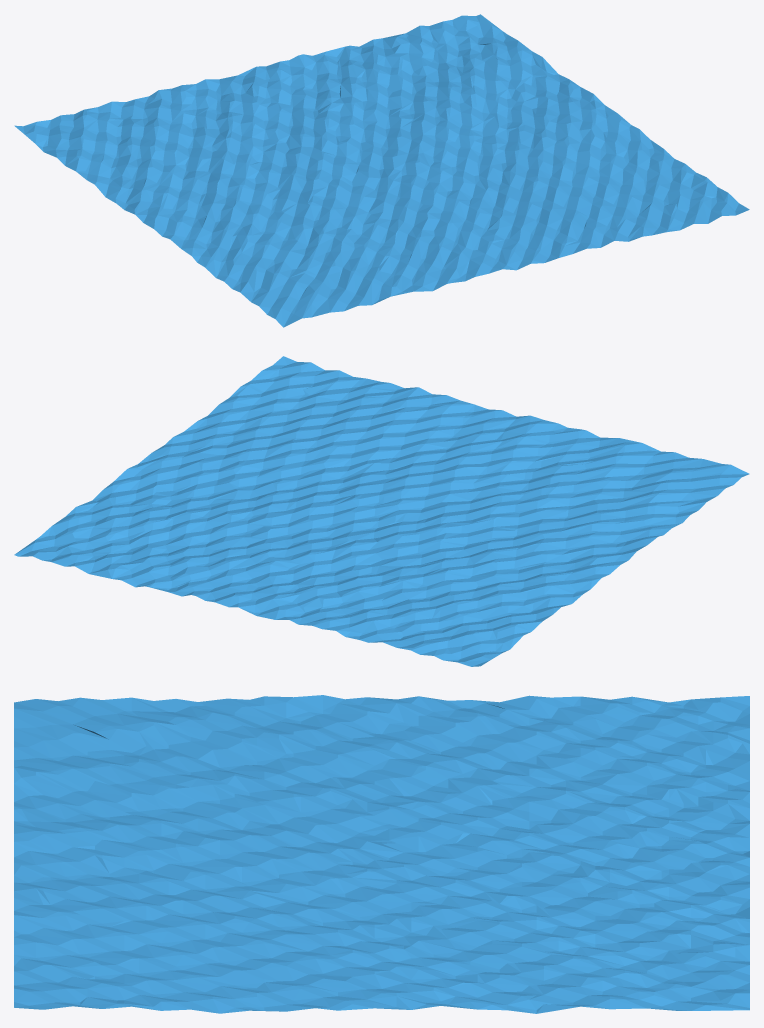
Rendered from Lake1.FBX.
The picture shows the model from 3 angles, top to bottom: view 1: azimuth 30°, elevation 25°; view 2: azimuth 150°, elevation 25°; view 3: azimuth 270°, elevation 25°; orthographic projection. The views are drawn at different scales.
Parts seen in each view (by area): view 1: Plane002; view 2: Plane002; view 3: Plane002.
Part boxes in pixels (bbox=[...]): Plane002: bbox=[14, 14, 749, 327]; Plane002: bbox=[14, 356, 749, 666]; Plane002: bbox=[14, 695, 749, 1013].
Bounding box in the file's own units: 260 × 3.66 × 260.
